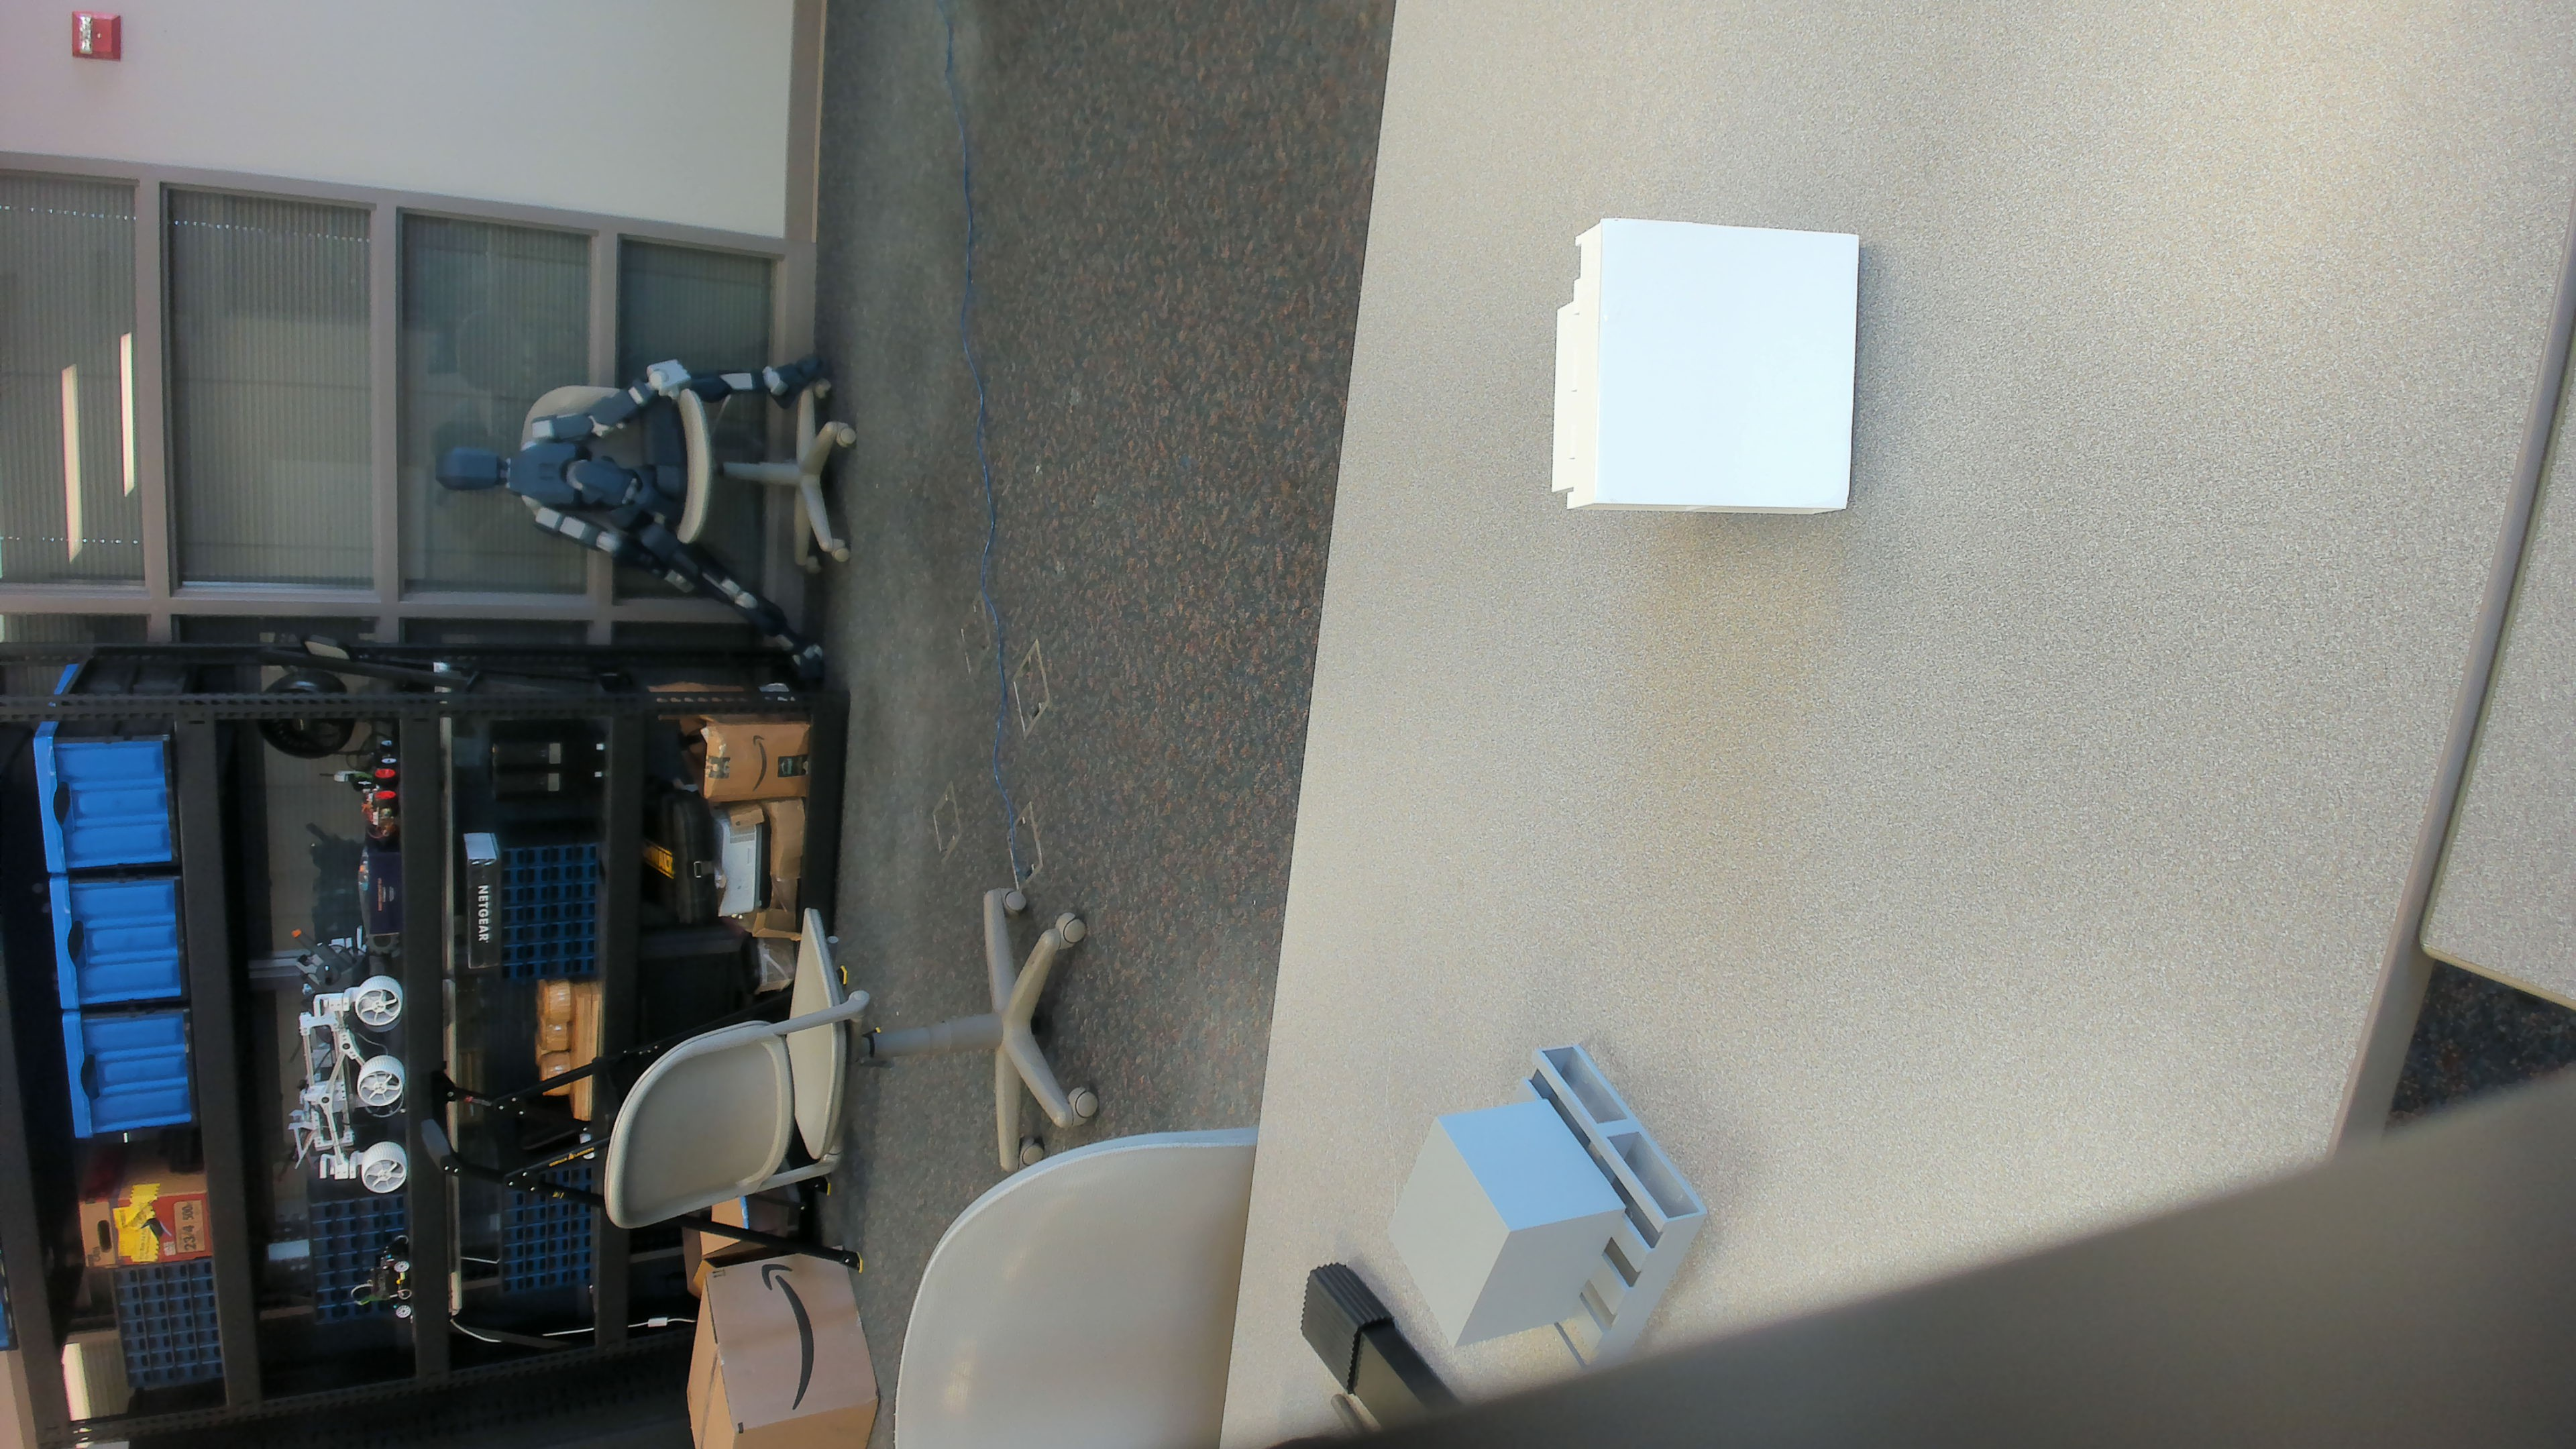grey pallet: (1366, 1030, 1723, 1366)
white pallet: (1537, 214, 1884, 559)
